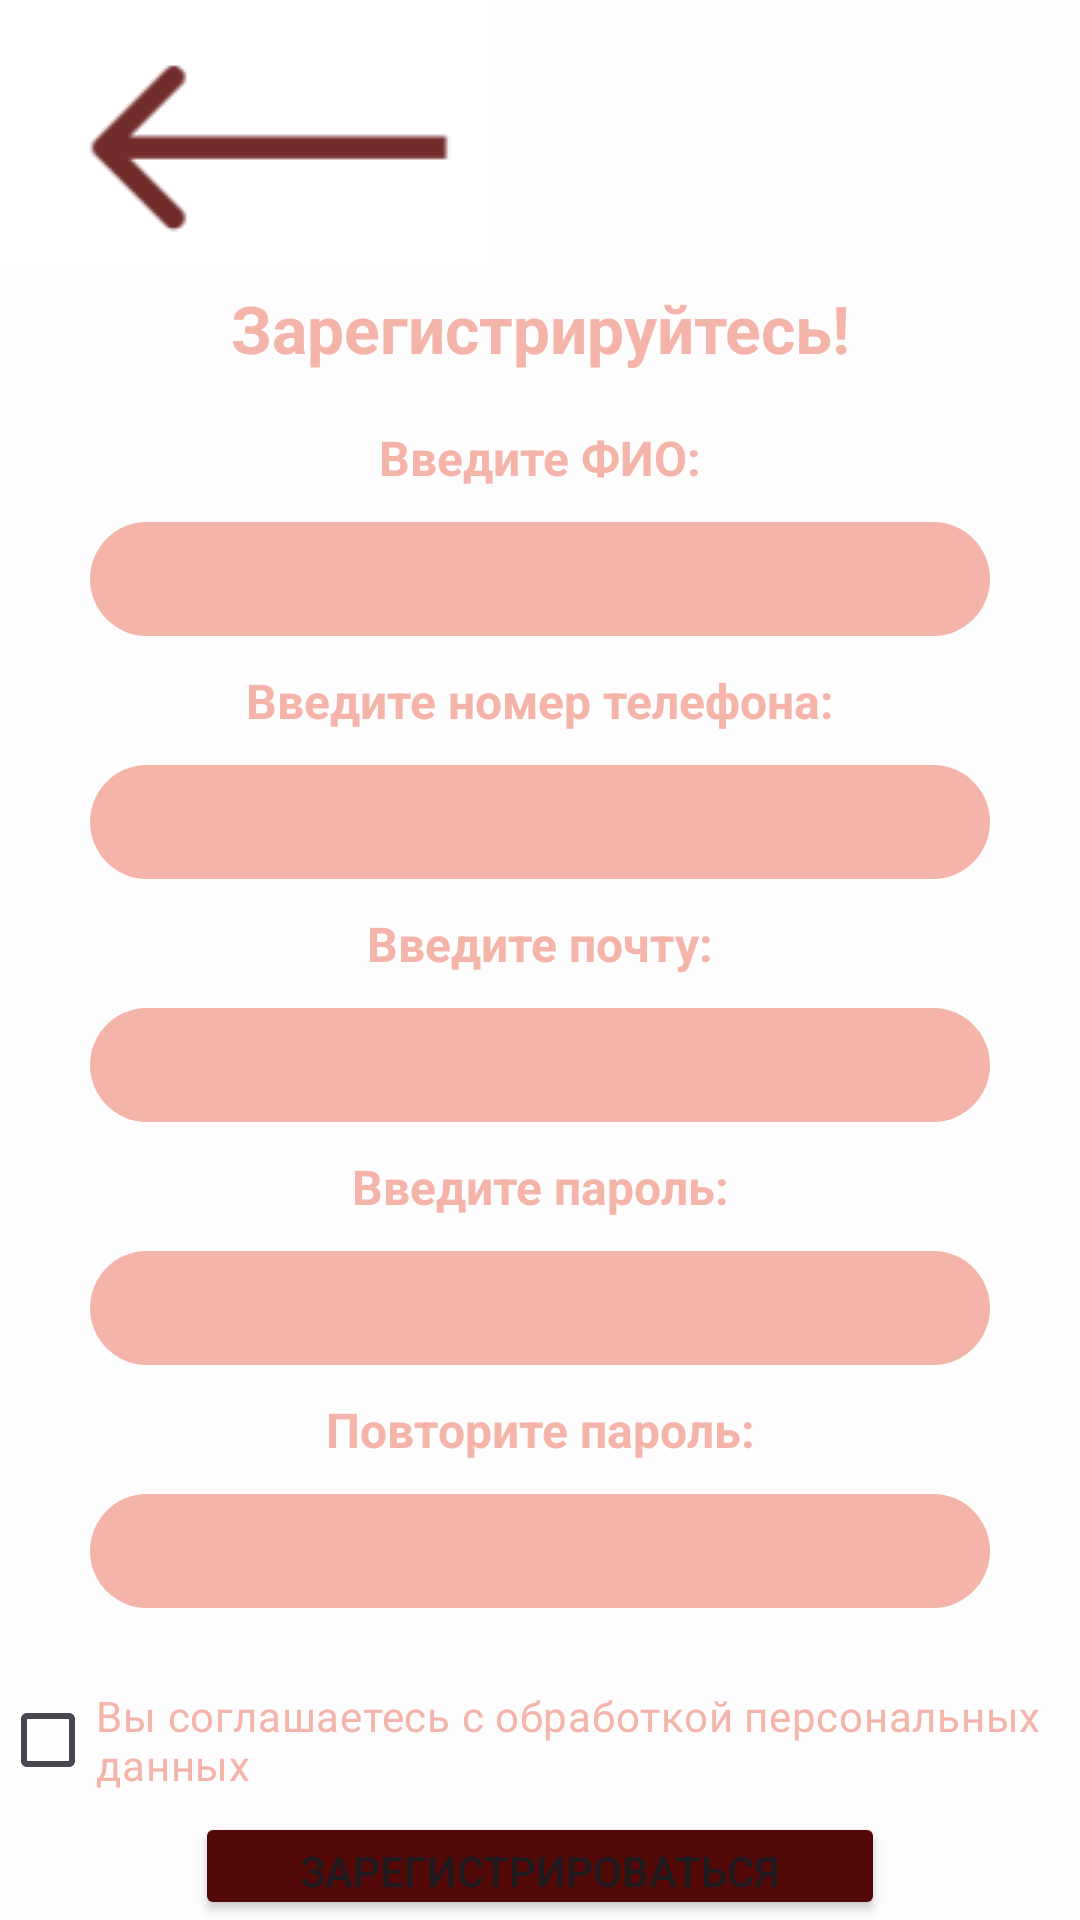

Point at icon controls on the screen. Image size 1080w x 1920h, points as (x,y).
strelochka: (269,148)
